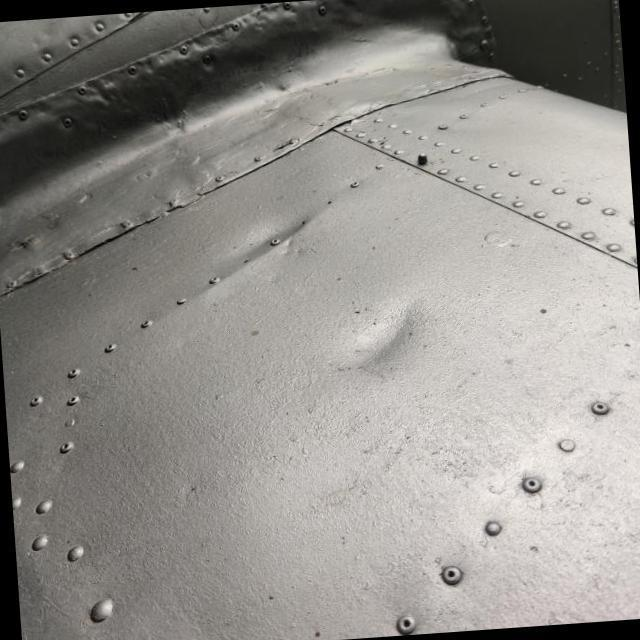dent: (208, 183, 330, 284), (328, 288, 432, 378)
